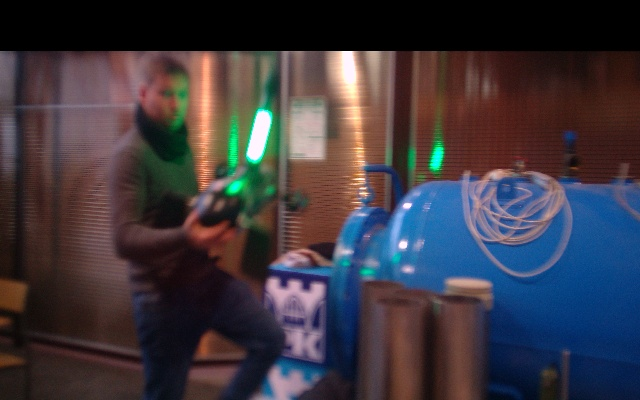green: (244, 111, 273, 166)
